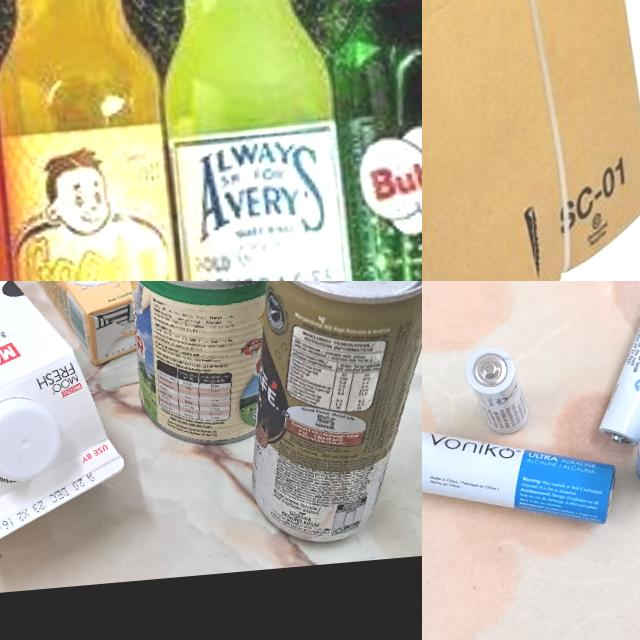bateria: (422, 411, 622, 539), (584, 281, 640, 449), (464, 342, 532, 438)
caixinha: (0, 281, 131, 565), (6, 281, 149, 371)
garrafa de vidro: (135, 0, 356, 281), (0, 0, 193, 281), (299, 0, 422, 281)
lata: (227, 281, 422, 548), (122, 281, 309, 450)
papelão: (422, 0, 640, 281)
tampa plástica: (0, 391, 63, 489)
